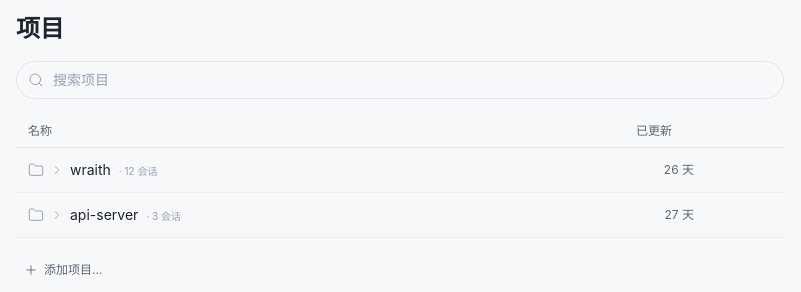
it: ProjectsPanel 搜索 › 都不命中时出「没有匹配的项目」而不是空白
Type "zzzz" into the field with test id "projects-search" at (400, 80), box [16, 61, 784, 99]
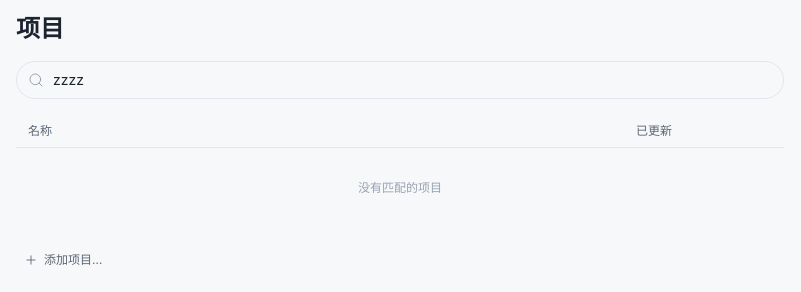
Expected: the text "没有匹配的项目" is shown, [358, 180, 442, 195]
